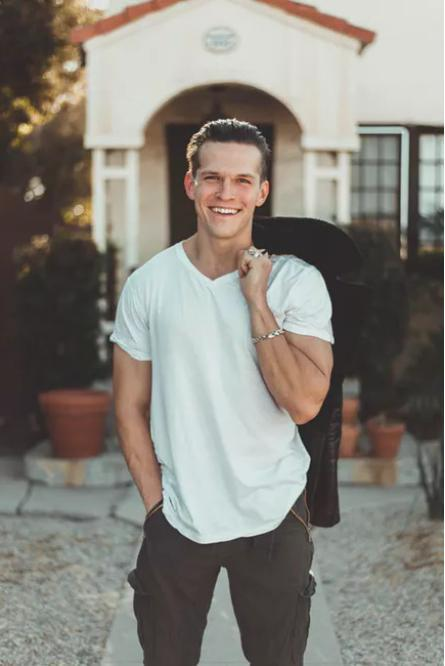face: (195, 141, 259, 238)
